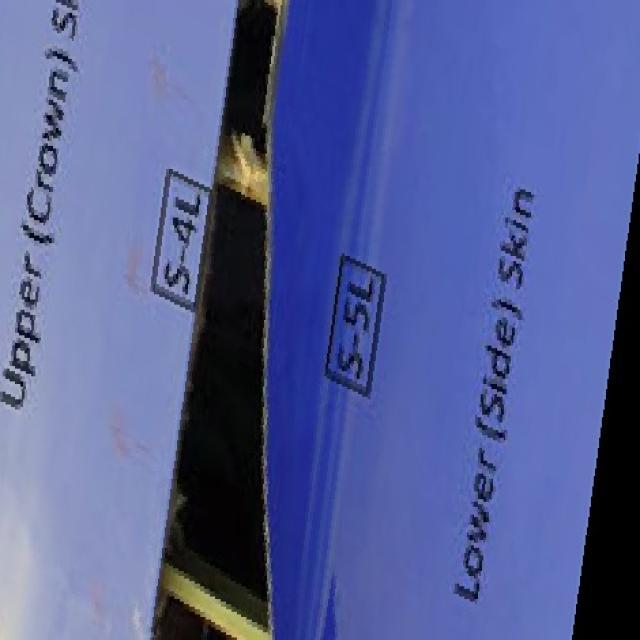crack: (144, 2, 297, 638)
